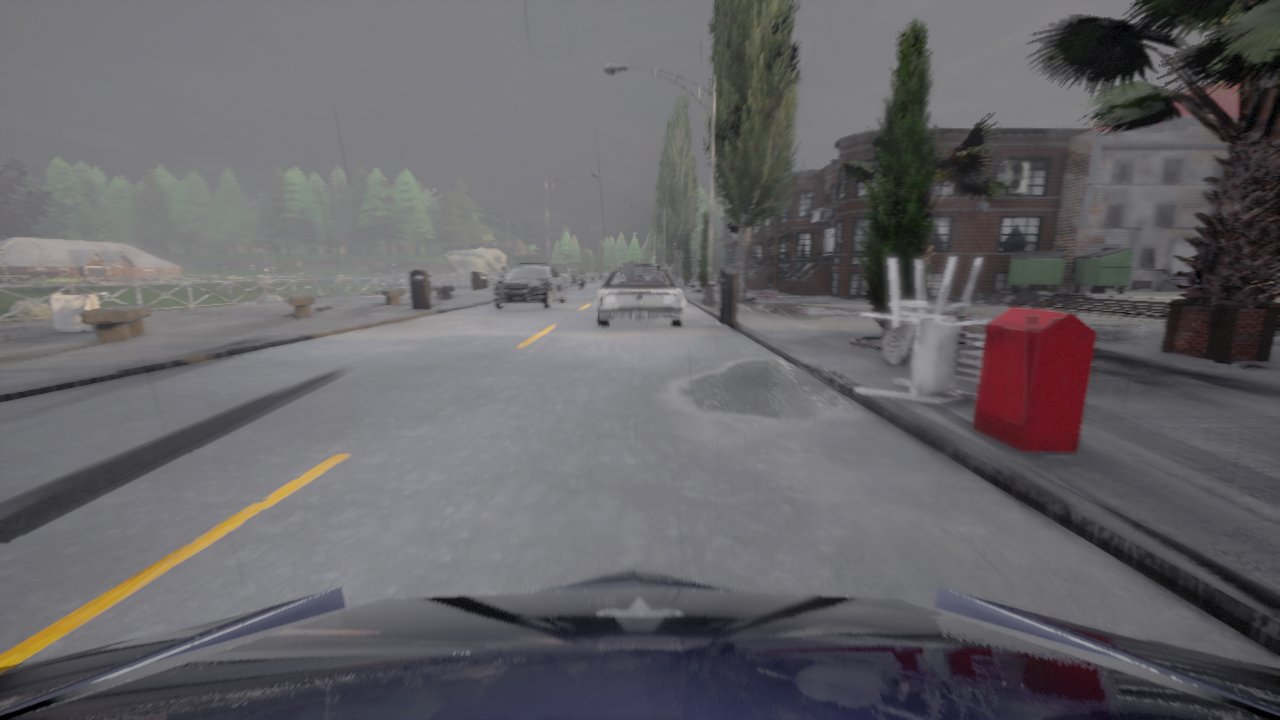cyclist: (0, 569, 1279, 719), (595, 269, 684, 327), (493, 261, 566, 308), (632, 261, 661, 269), (577, 274, 584, 290)
